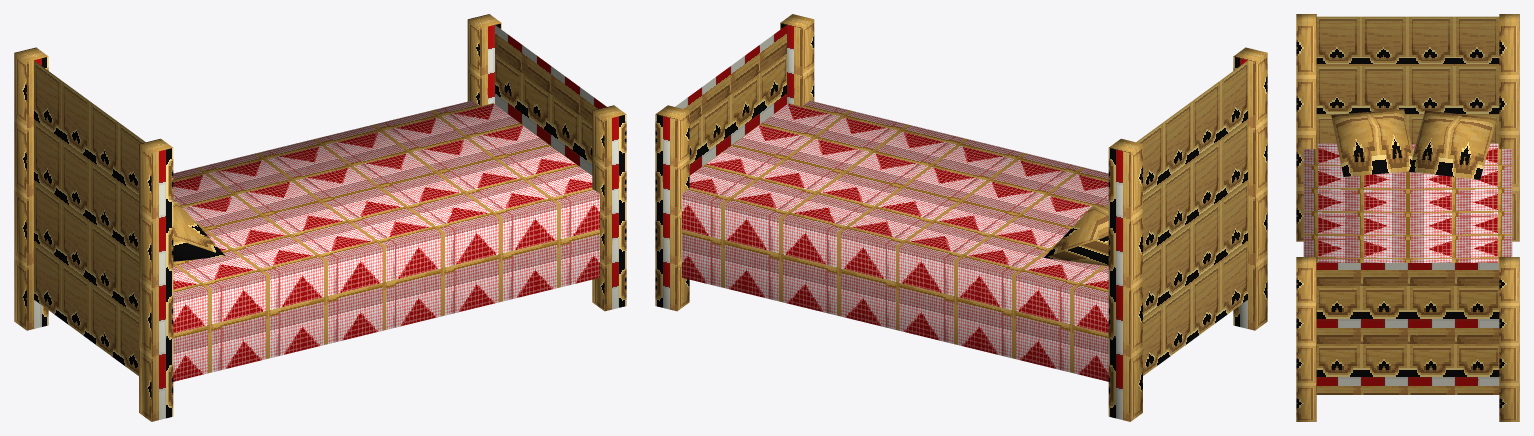
Rendered from 3060IMRL04_01.gltf.
3 renders of one model, left to right at view 1: azimuth 30°, elevation 25°; view 2: azimuth 150°, elevation 25°; view 3: azimuth 270°, elevation 25°, orthographic. The views are drawn at different scales.
Parts seen in each view (by area): view 1: 3060IMRL04_01; view 2: 3060IMRL04_01; view 3: 3060IMRL04_01.
Part boxes in pixels (box(x1,y1,x2,y2)): 3060IMRL04_01: box(14, 14, 626, 421); 3060IMRL04_01: box(655, 14, 1267, 421); 3060IMRL04_01: box(1296, 14, 1519, 421).
Bounding box in the file's own units: 1.92 × 1.04 × 0.9604.
Materials: 3 (3 with a texture image).
